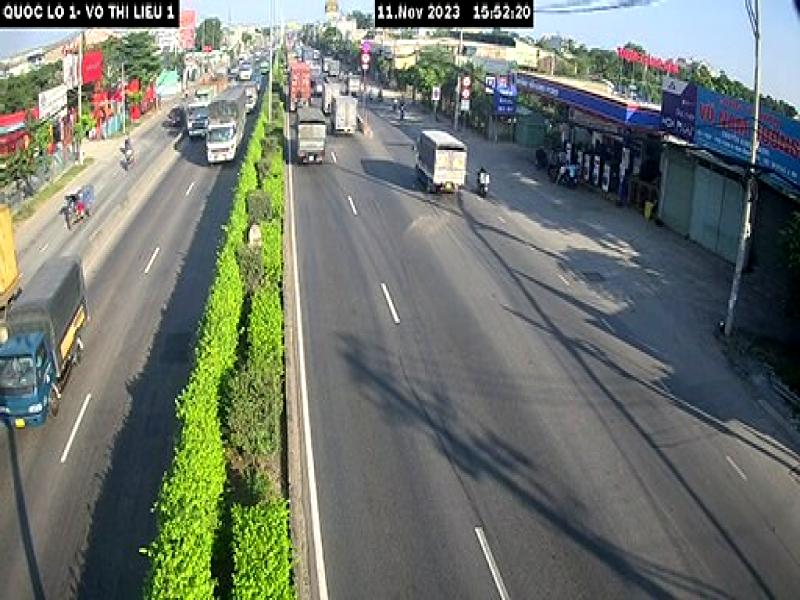truck: (0, 250, 92, 431), (414, 124, 468, 199), (207, 86, 249, 166), (297, 103, 328, 169)
